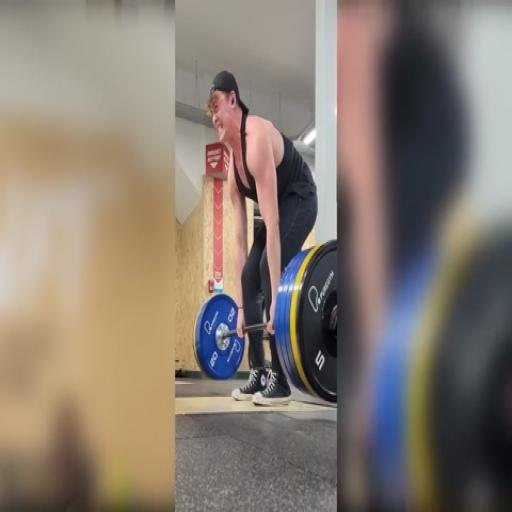exercise: (203, 68, 320, 410)
